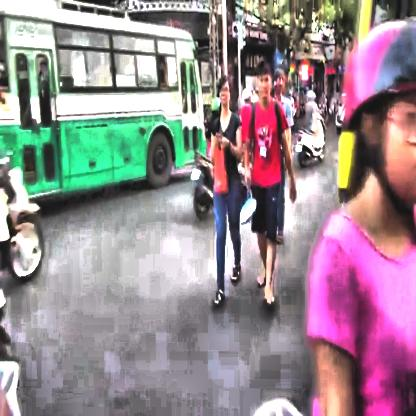not_wear: (256, 62, 274, 101), (217, 73, 232, 108), (274, 68, 286, 95)
